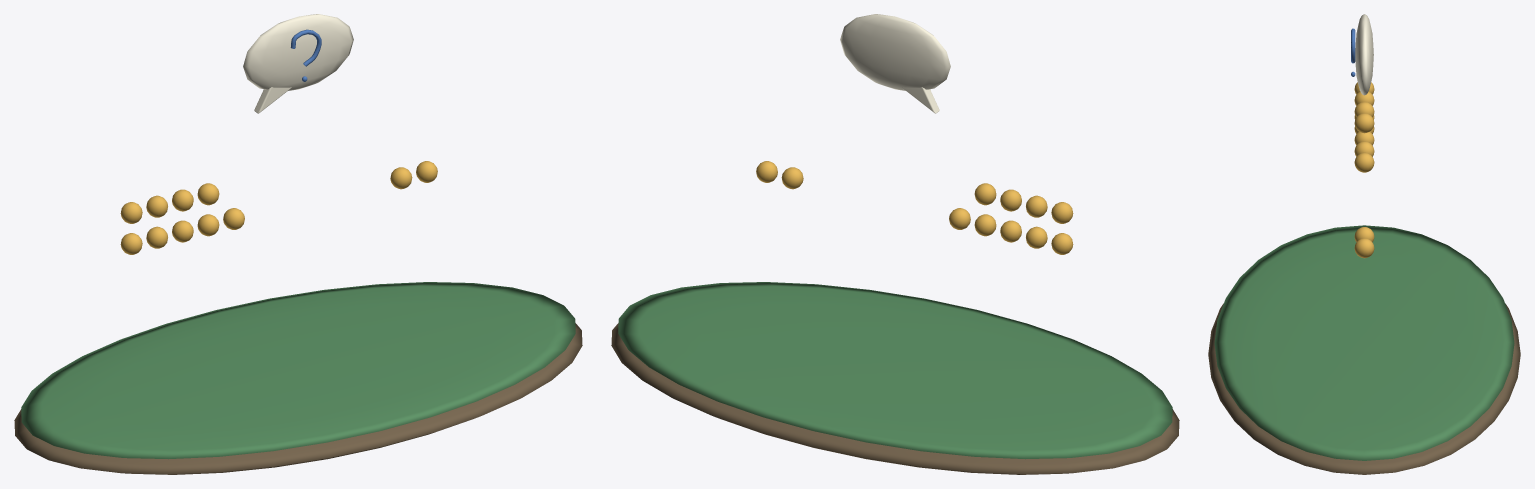
File: complete-first-many-or-few.glb
3 views of the same model, side by side, from view 1: azimuth 30°, elevation 25°; view 2: azimuth 150°, elevation 25°; view 3: azimuth 270°, elevation 25° (orthographic). The views are drawn at different scales.
Parts seen in each view (by area): view 1: complete-first-many-or-few_surface_01, complete-first-many-or-few_surface_00, complete-first-many-or-few_surface_03, complete-first-many-or-few_surface_02; view 2: complete-first-many-or-few_surface_01, complete-first-many-or-few_surface_00, complete-first-many-or-few_surface_03, complete-first-many-or-few_surface_02; view 3: complete-first-many-or-few_surface_01, complete-first-many-or-few_surface_00, complete-first-many-or-few_surface_02, complete-first-many-or-few_surface_03.
Part boxes in pixels (<box>): complete-first-many-or-few_surface_01: <box>21,282,575,459</box>; complete-first-many-or-few_surface_00: <box>14,323,582,474</box>; complete-first-many-or-few_surface_03: <box>243,14,353,113</box>; complete-first-many-or-few_surface_02: <box>120,161,437,254</box>; complete-first-many-or-few_surface_01: <box>618,282,1172,459</box>; complete-first-many-or-few_surface_00: <box>611,323,1179,474</box>; complete-first-many-or-few_surface_03: <box>840,14,950,113</box>; complete-first-many-or-few_surface_02: <box>756,161,1073,254</box>; complete-first-many-or-few_surface_01: <box>1214,225,1514,460</box>; complete-first-many-or-few_surface_00: <box>1208,303,1520,474</box>; complete-first-many-or-few_surface_02: <box>1354,82,1374,258</box>; complete-first-many-or-few_surface_03: <box>1355,14,1373,95</box>.
Bounding box in the file's own units: 4.56 × 3.07 × 2.5.
